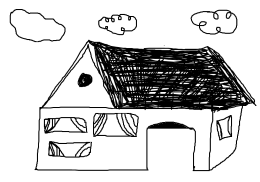clouds: (8, 9, 72, 45), (189, 7, 241, 40), (95, 7, 141, 39)
door: (139, 120, 201, 175)
open_window: (89, 107, 143, 146), (41, 111, 92, 140), (43, 138, 96, 164), (213, 113, 237, 142)
shaded_roof: (37, 38, 260, 111)
wall: (31, 102, 252, 174)
